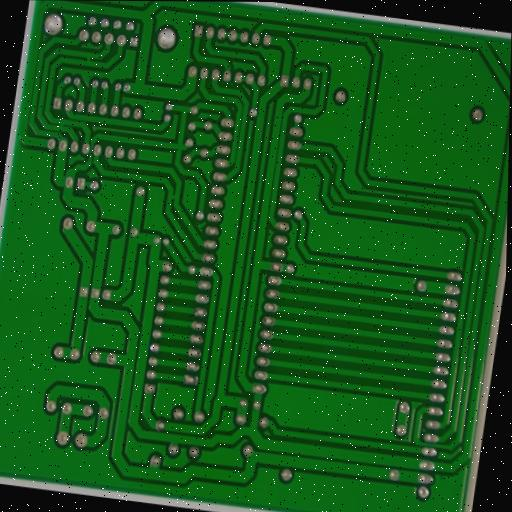short_circuit: (78, 49, 100, 71), (165, 188, 183, 208), (54, 119, 69, 135)
